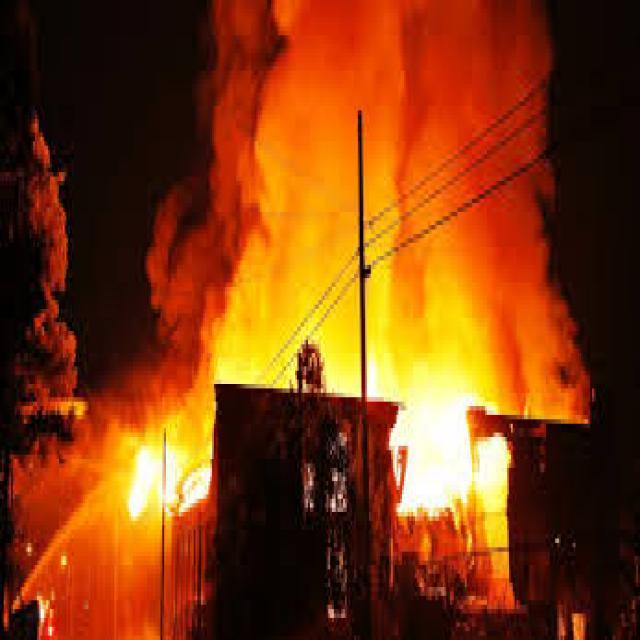Fire: (378, 377, 508, 541), (136, 431, 208, 531)
Smoke: (106, 0, 595, 426)
